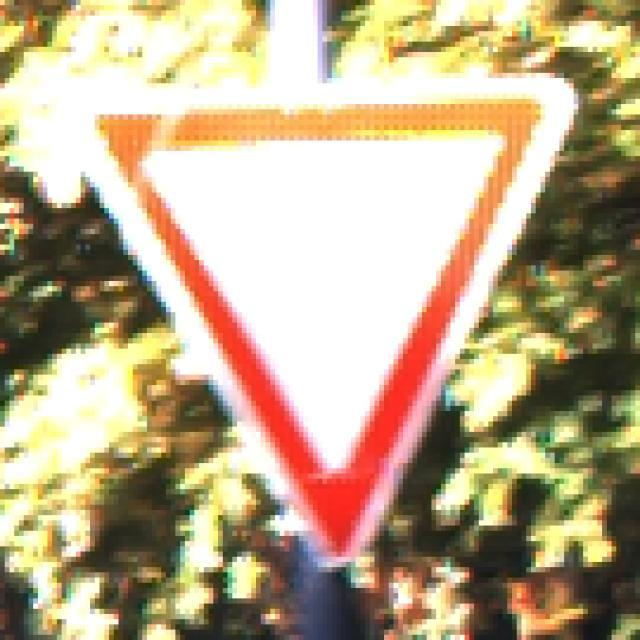give way: (54, 71, 579, 571)
